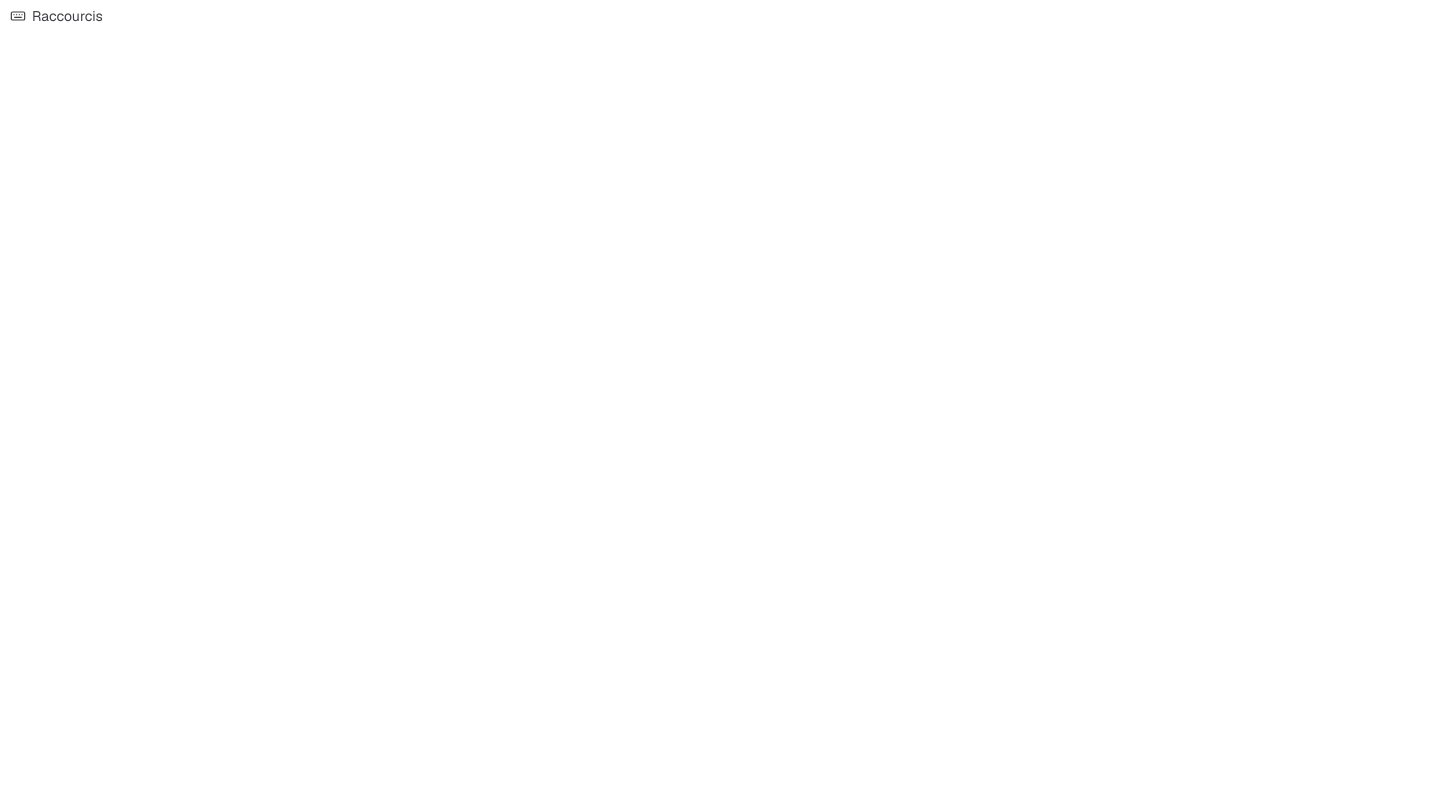
ShortcutsDialog › opens from the header button and closes with the close button
Click the button "Raccourcis".
click(56, 16)  # box left=0, top=0, right=113, bottom=32
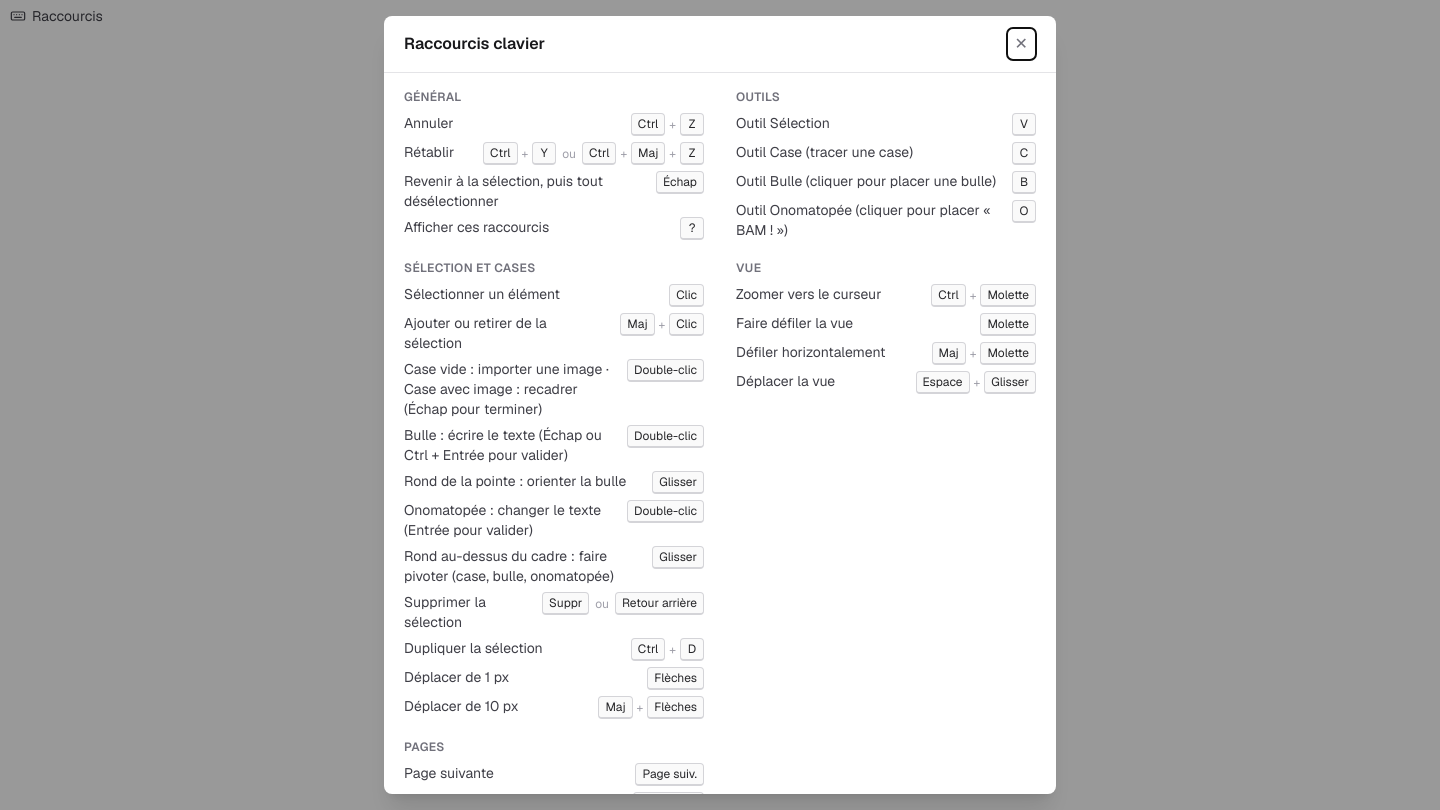
Result: the dialog is shown at left=384, top=16, right=1056, bottom=794
Click the button named "Fermer".
click(1021, 44)  # box left=1007, top=28, right=1036, bottom=60
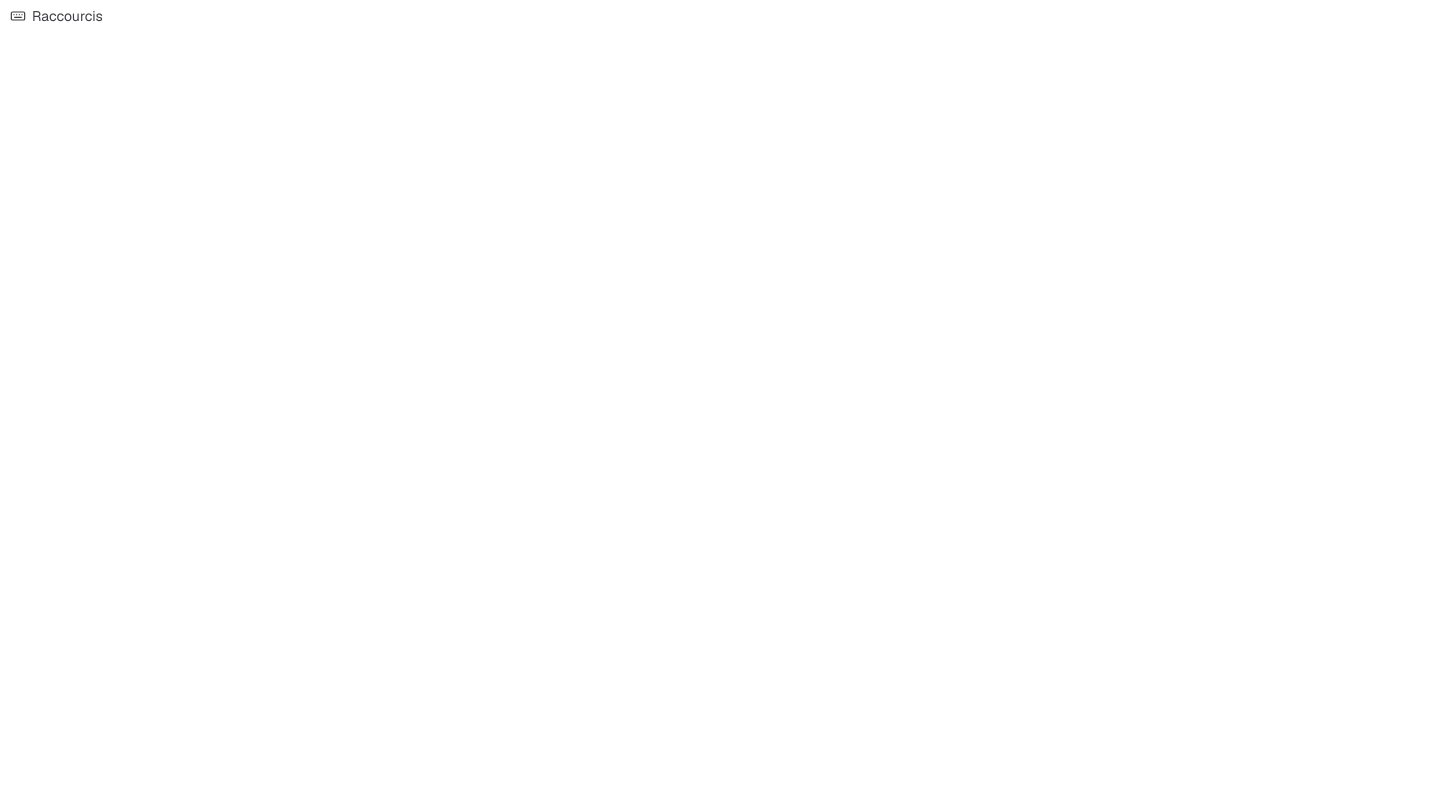
Result: the dialog is gone
